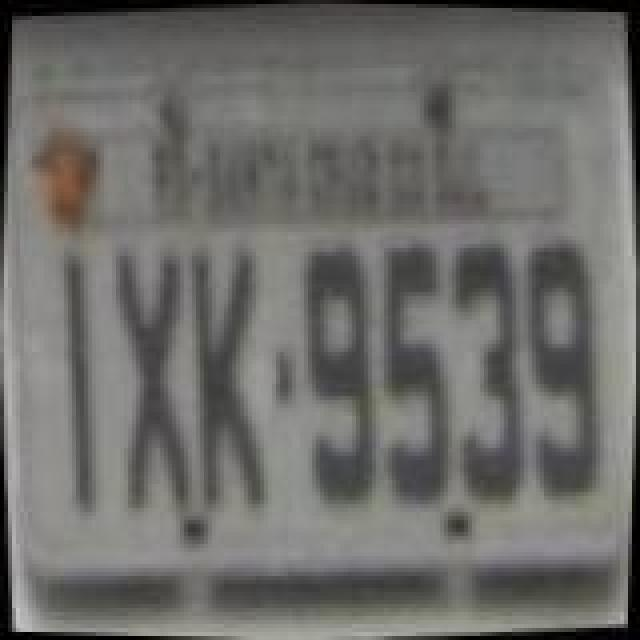1: (50, 248, 102, 512)
3: (438, 232, 538, 508)
5: (362, 236, 462, 508)
9: (292, 238, 388, 506), (512, 236, 608, 500)
K: (178, 238, 278, 514)
X: (98, 236, 198, 512)
